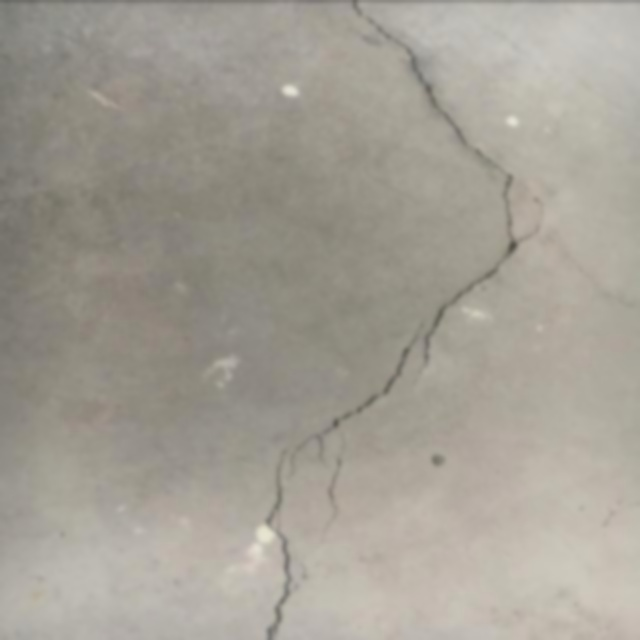SurfaceCrack: (223, 1, 562, 640)
